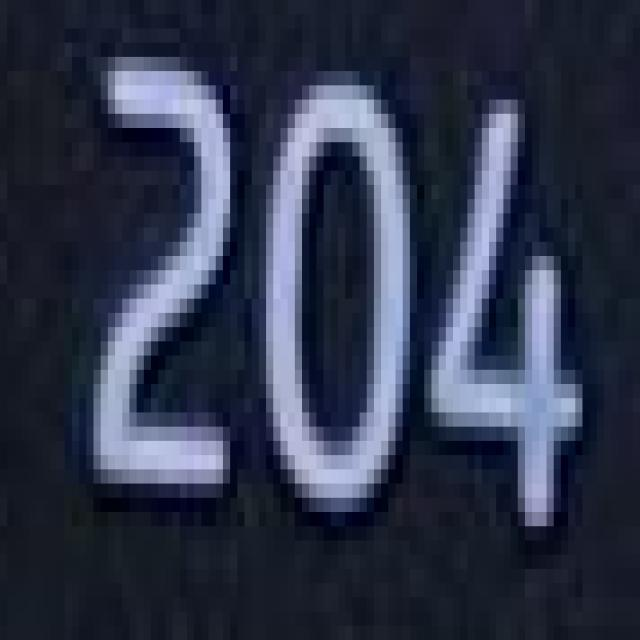character: (254, 60, 422, 543), (421, 83, 586, 546), (83, 38, 240, 518)
